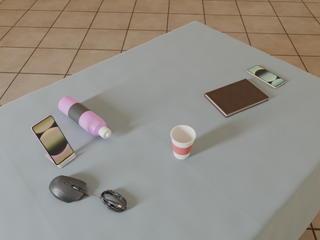book: (205, 79, 269, 117)
bottle: (58, 96, 111, 139)
cup: (171, 125, 196, 159)
mouse: (49, 175, 88, 203)
phone: (31, 115, 73, 165), (247, 65, 285, 88)
